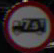Heavy Vehicles: (6, 5, 50, 41)
